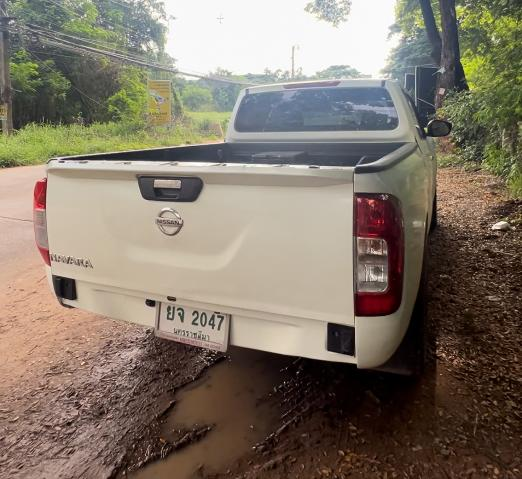pickup-truck: (25, 75, 457, 391)
